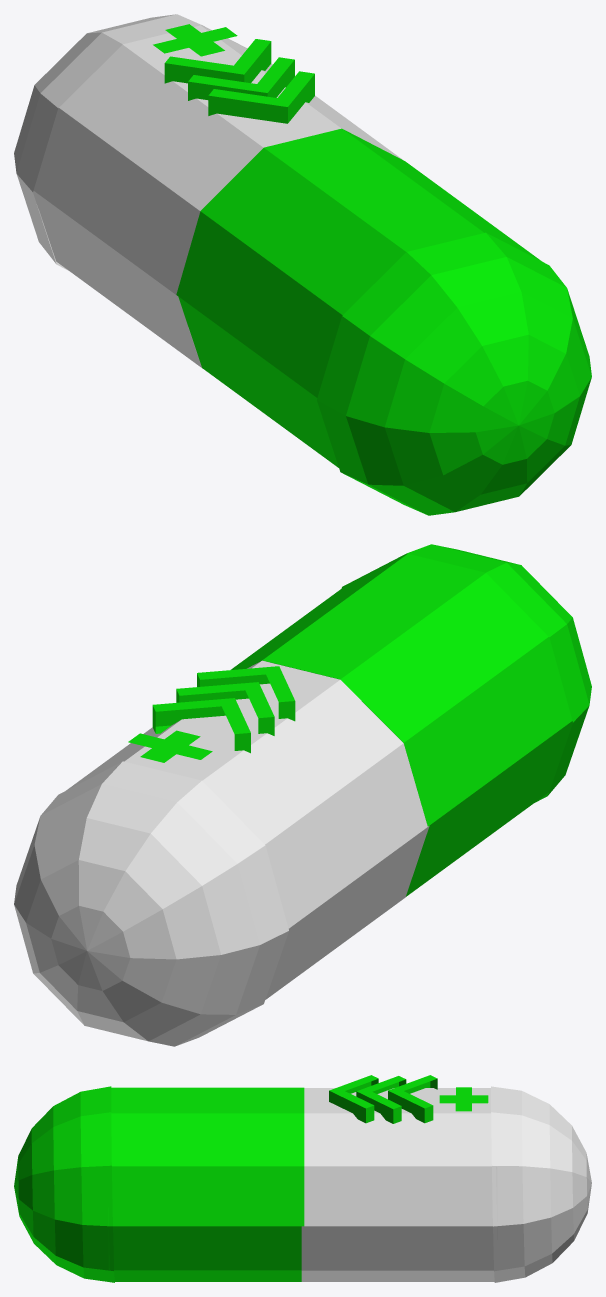
Rendered from speedUpAllObj.fbx.
The picture shows the model from 3 angles, top to bottom: view 1: azimuth 30°, elevation 25°; view 2: azimuth 150°, elevation 25°; view 3: azimuth 270°, elevation 25°; orthographic projection. The views are drawn at different scales.
Parts seen in each view (by area): view 1: speedUpAllObj; view 2: speedUpAllObj; view 3: speedUpAllObj.
Part boxes in pixels (x1,y1,x2,y2): speedUpAllObj: [14, 14, 591, 515]; speedUpAllObj: [14, 544, 591, 1046]; speedUpAllObj: [14, 1075, 591, 1282].
Size of the model in its own units: 2.05 by 2.07 by 5.99.
